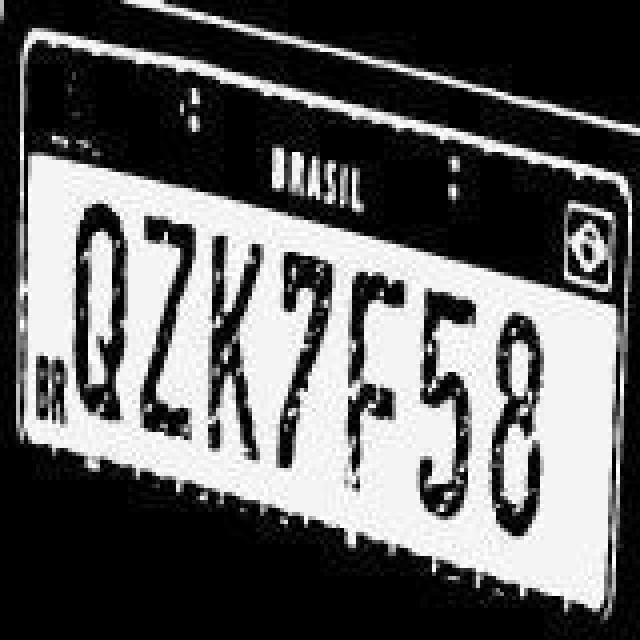5: (416, 286, 480, 522)
7: (274, 250, 334, 470)
8: (488, 310, 544, 538)
F: (344, 272, 408, 496)
K: (208, 230, 264, 458)
Q: (72, 202, 128, 422)
Z: (140, 214, 196, 442)
